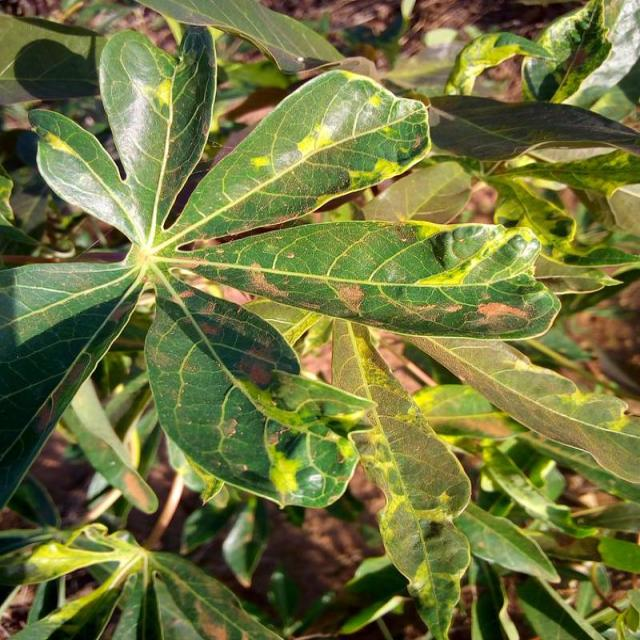cassava leaf: (1, 9, 636, 636), (143, 274, 375, 510), (163, 66, 432, 249)
